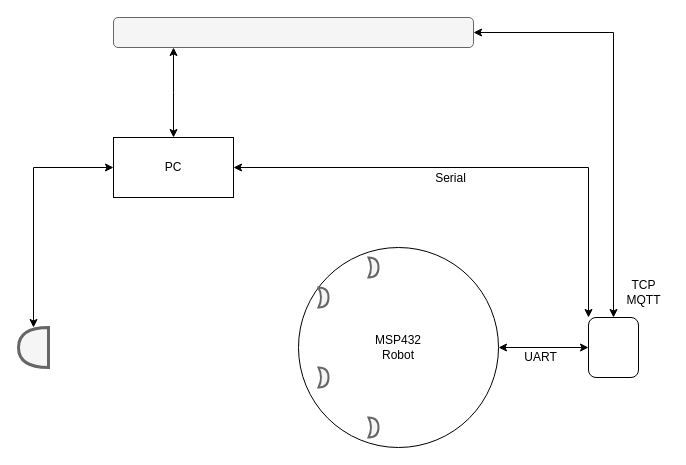
Some shapes in this 686 by 465 pixel diagram are drawn without their labels. The shapes that lost their labels are listed below. From the top down, each one's box as (x1, y1, x2, y2) in pixels, then its label:
(112, 16, 474, 48): MQTT BackBone
(588, 316, 638, 378): ESP 8266
